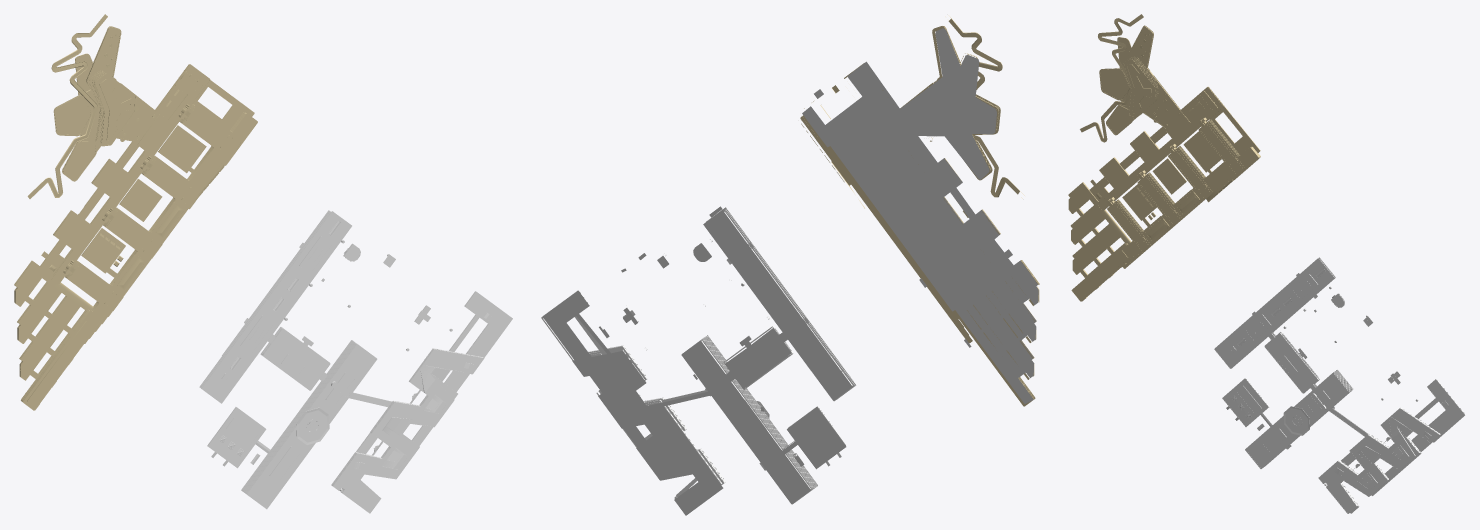
3 views of the same model, side by side, from view 1: azimuth 30°, elevation 25°; view 2: azimuth 150°, elevation 25°; view 3: azimuth 330°, elevation 25° (orthographic). The views are drawn at different scales.
Bounding box in the file's own units: 3269 × 3550 × 81.47.
